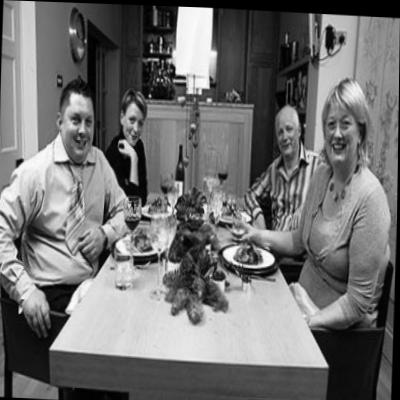happy: (325, 95, 359, 163), (64, 93, 95, 160), (277, 112, 302, 157), (124, 101, 145, 145)
